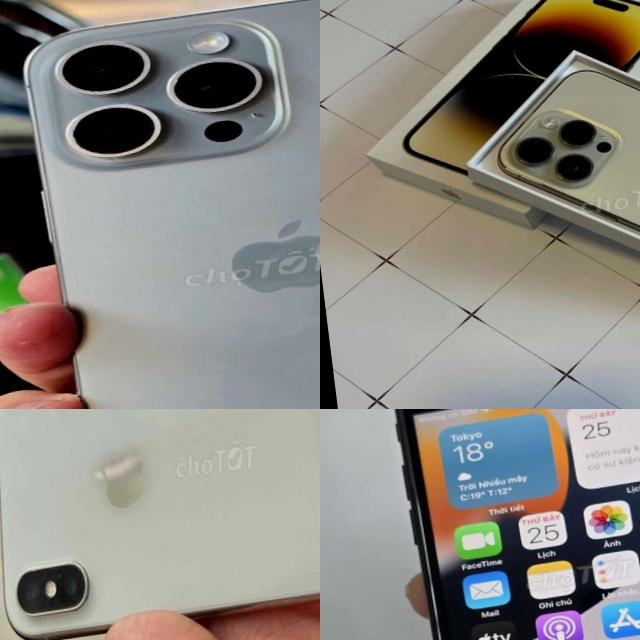scratch: (401, 452, 473, 640)
